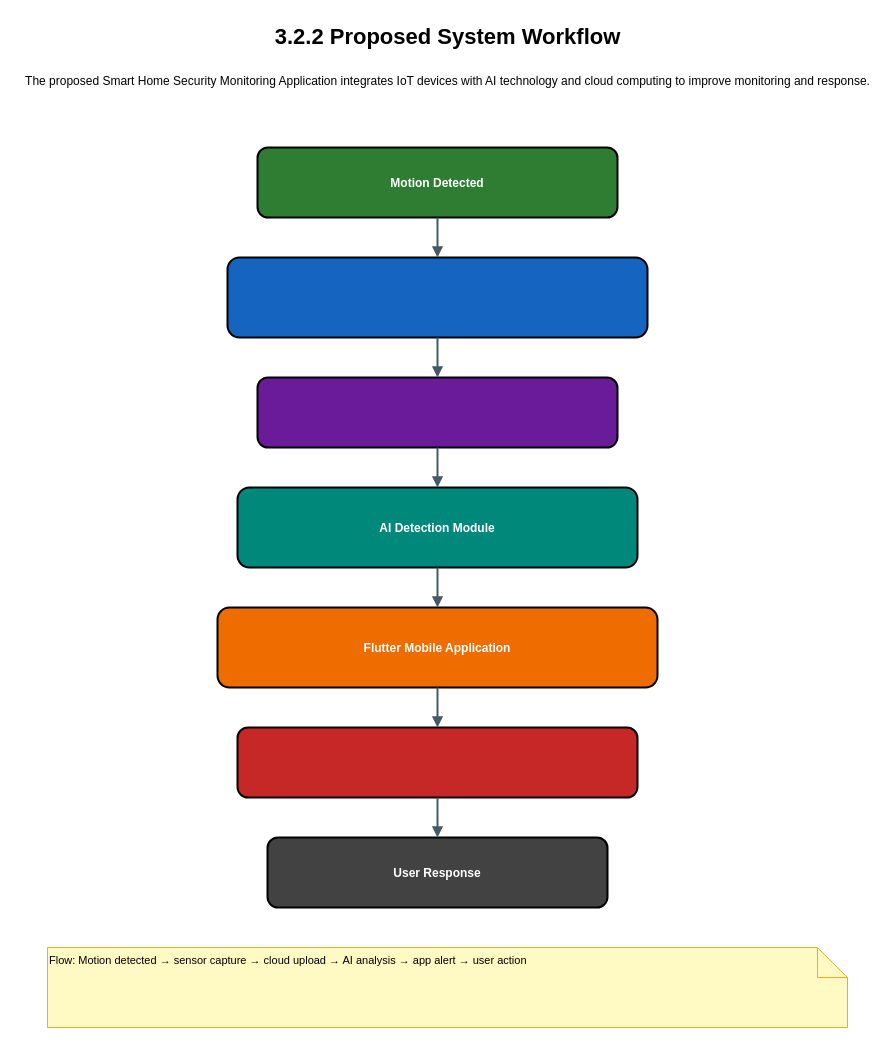
Some shapes in this 894 by 1045 pixel diagram are drawn without their labels. The centre of each missing label's shape, as x and y in pixels:
"Firebase Cloud" goes at [437,412].
"Real-Time Notification" goes at [437,762].
"Ultrasonic Sensor & ESP32 Cam" goes at [437,297].
